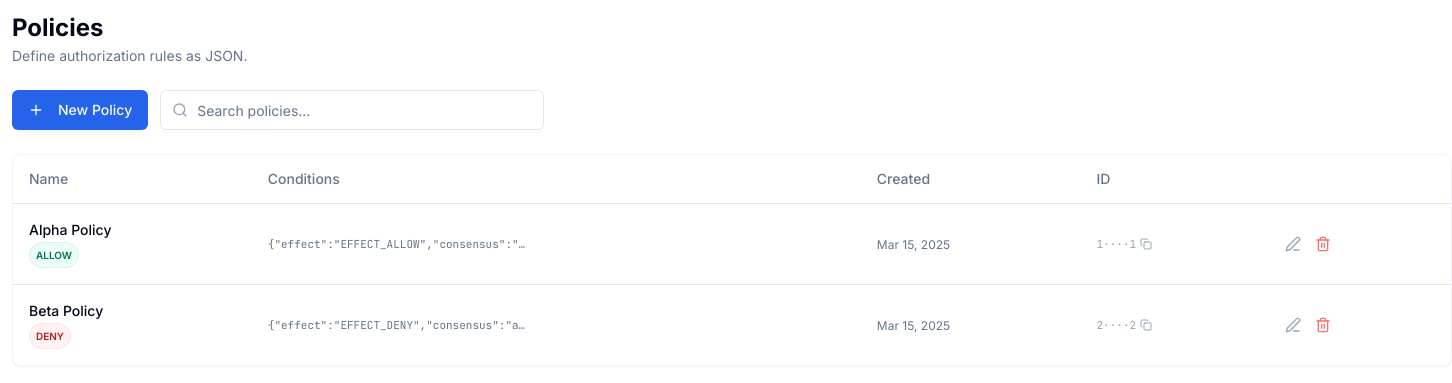
Scenario: Policies Page › Search › filters list by name
The width and height of the screenshot is (1452, 383).
Expected: the text "Alpha Policy" is shown, [29, 220, 112, 238]
Expected: the text "Beta Policy" is shown, [29, 302, 103, 318]
Type "Alpha" into the field with placeholder "Search policies..." at [352, 110], box [160, 90, 544, 130]
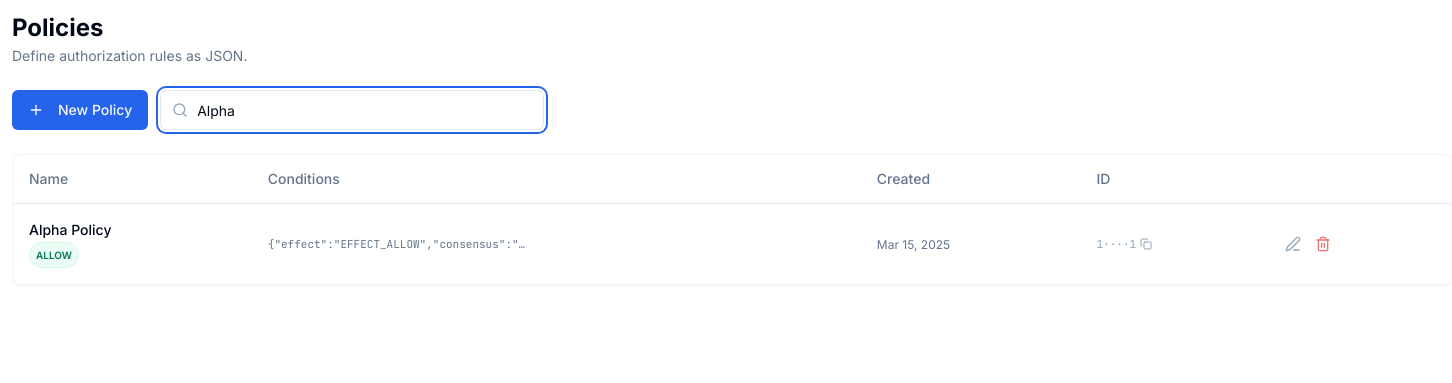
Expected: the text "Alpha Policy" is shown, [29, 220, 112, 238]
Expected: the text "Beta Policy" is gone
